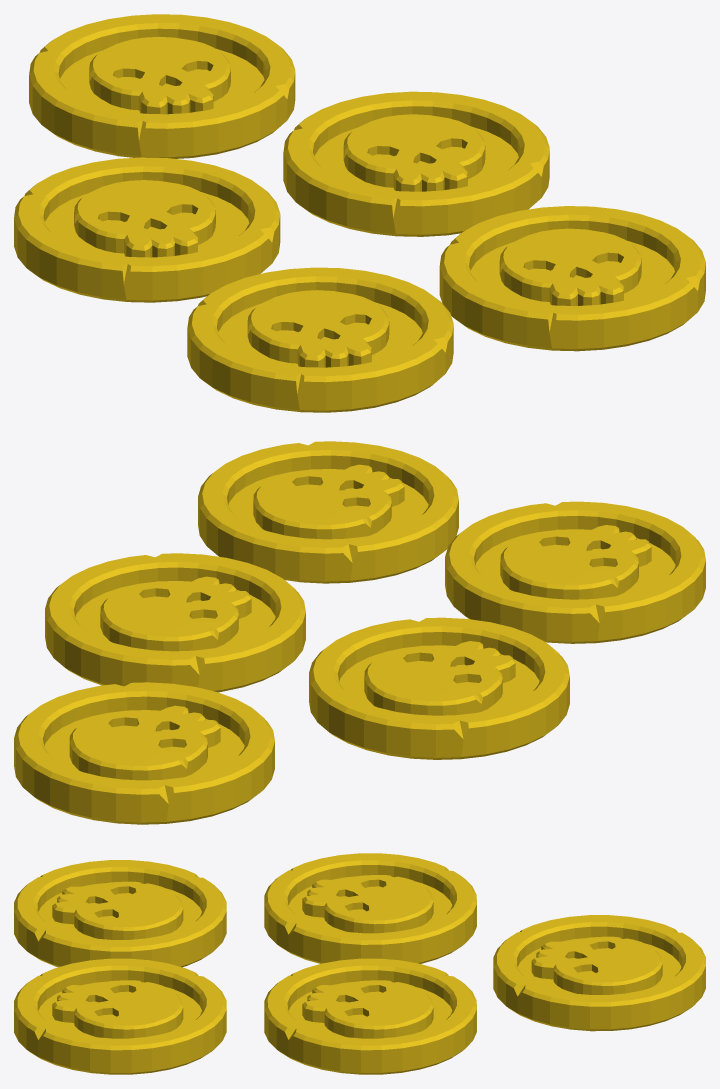
Rendered from Coins.fbx.
3 renders of one model, top to bottom at view 1: azimuth 30°, elevation 25°; view 2: azimuth 150°, elevation 25°; view 3: azimuth 270°, elevation 25°, orthographic. The views are drawn at different scales.
Parts seen in each view (by area): view 1: Cylinder.005, Cylinder.001, Cylinder.004, Cylinder.003, Cylinder.002; view 2: Cylinder.004, Cylinder.003, Cylinder.001, Cylinder.005, Cylinder.002; view 3: Cylinder.002, Cylinder.001, Cylinder.004, Cylinder.003, Cylinder.005.
Part boxes in pixels (box(x1,y1,x2,y2)): Cylinder.005: box(187, 267, 453, 412); Cylinder.001: box(439, 206, 705, 351); Cylinder.004: box(29, 14, 295, 158); Cylinder.003: box(14, 157, 280, 302); Cylinder.002: box(283, 91, 549, 236); Cylinder.004: box(14, 682, 274, 824); Cylinder.003: box(309, 617, 569, 759); Cylinder.001: box(198, 441, 458, 583); Cylinder.005: box(445, 501, 705, 643); Cylinder.002: box(45, 553, 305, 692); Cylinder.002: box(264, 958, 476, 1074); Cylinder.001: box(14, 958, 226, 1074); Cylinder.004: box(493, 915, 705, 1031); Cylinder.003: box(264, 853, 476, 963); Cylinder.005: box(14, 860, 226, 967).
Size of the model in its own units: 130 by 9.05 by 194.
